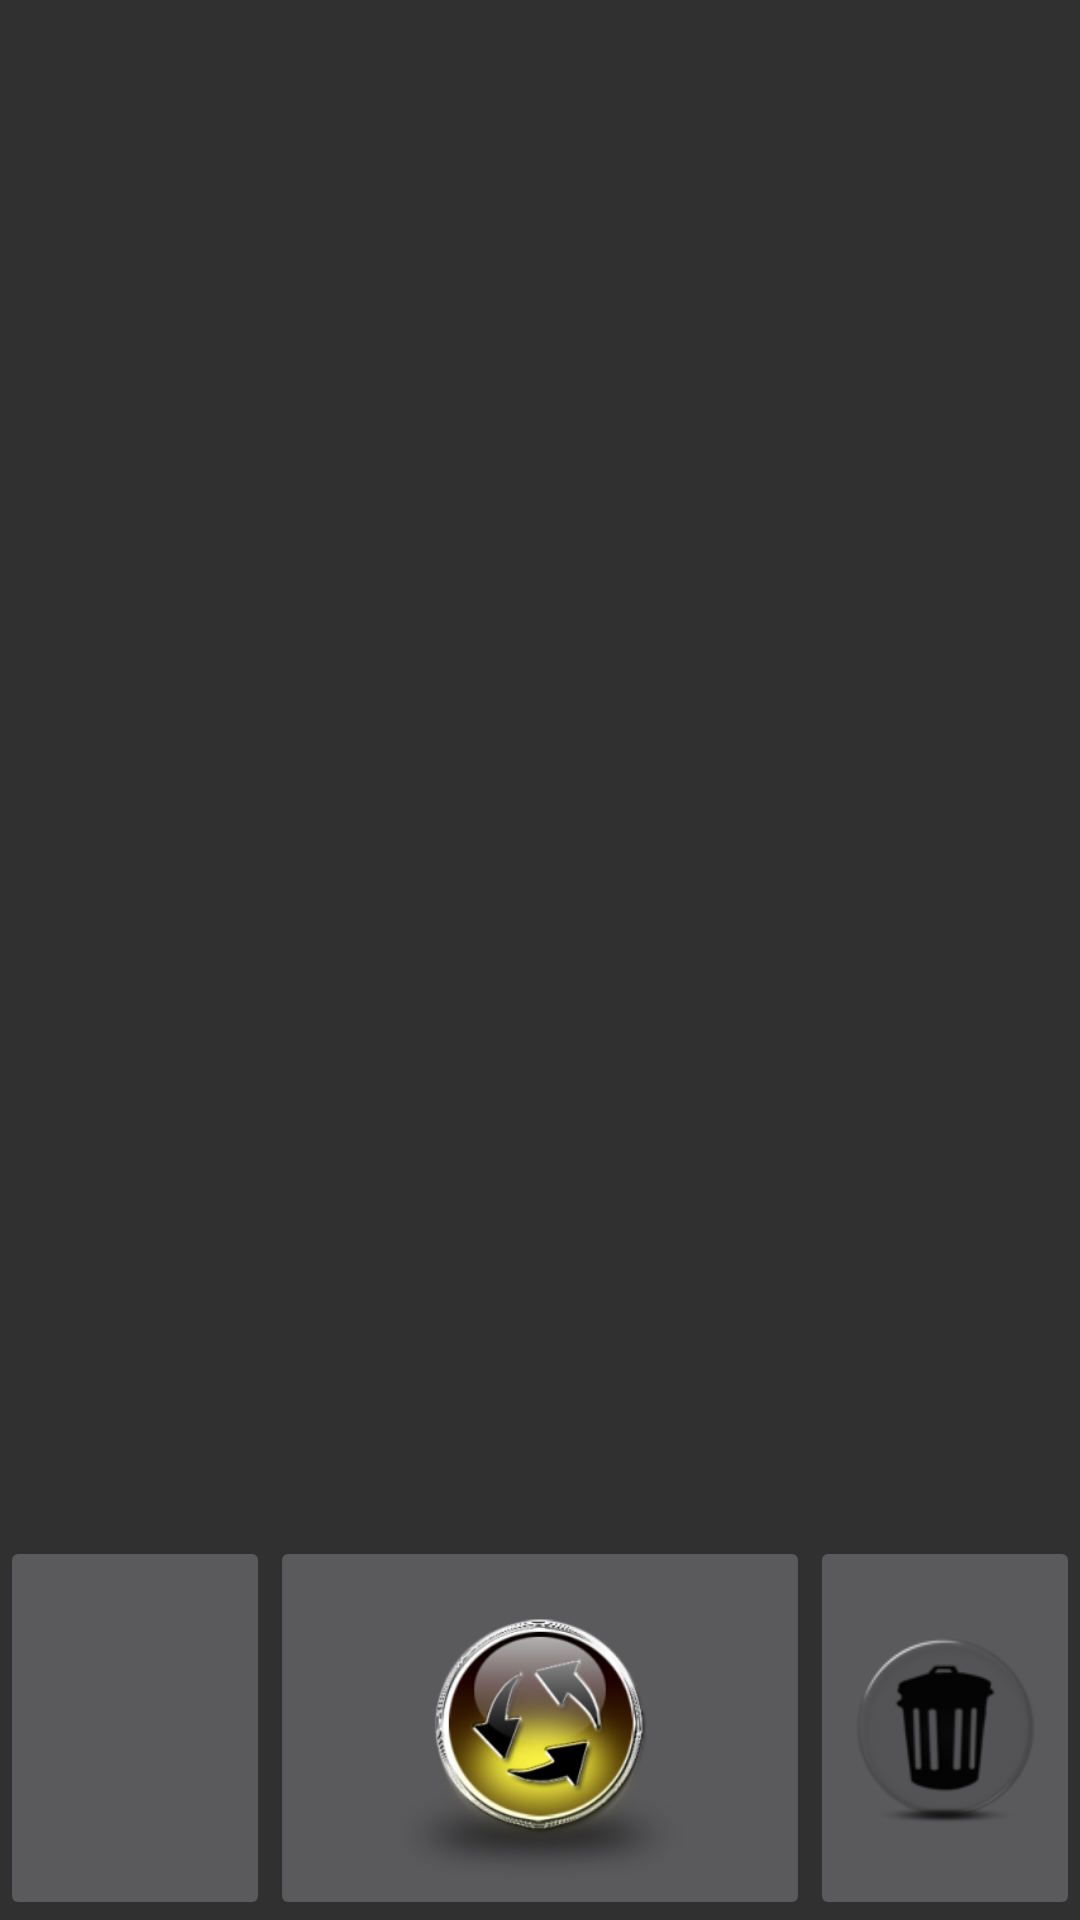

Icon bounding boxes for this 1080x1920 phone screenshot, format (x1, y1, x2, y2):
clear the list: (822, 1554, 1068, 1902)
